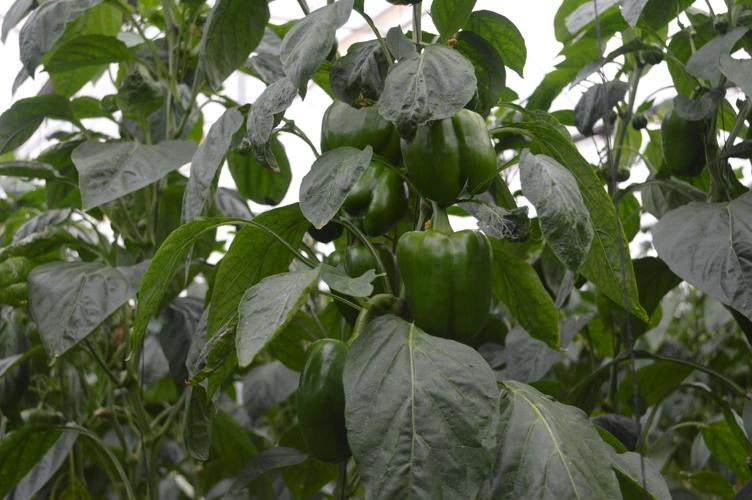BellPepper: (391, 229, 493, 344), (398, 108, 492, 204), (292, 338, 352, 467), (332, 154, 403, 232), (324, 244, 396, 316), (317, 98, 395, 157), (657, 107, 702, 177)
